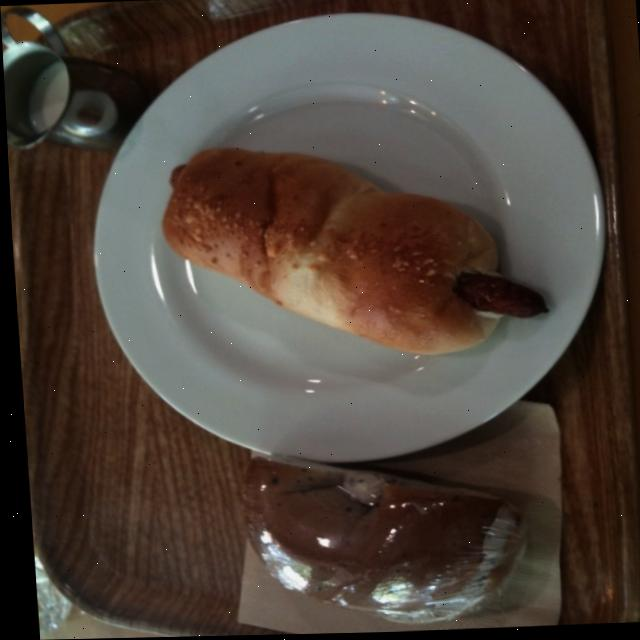三明治: (70, 0, 626, 476)
